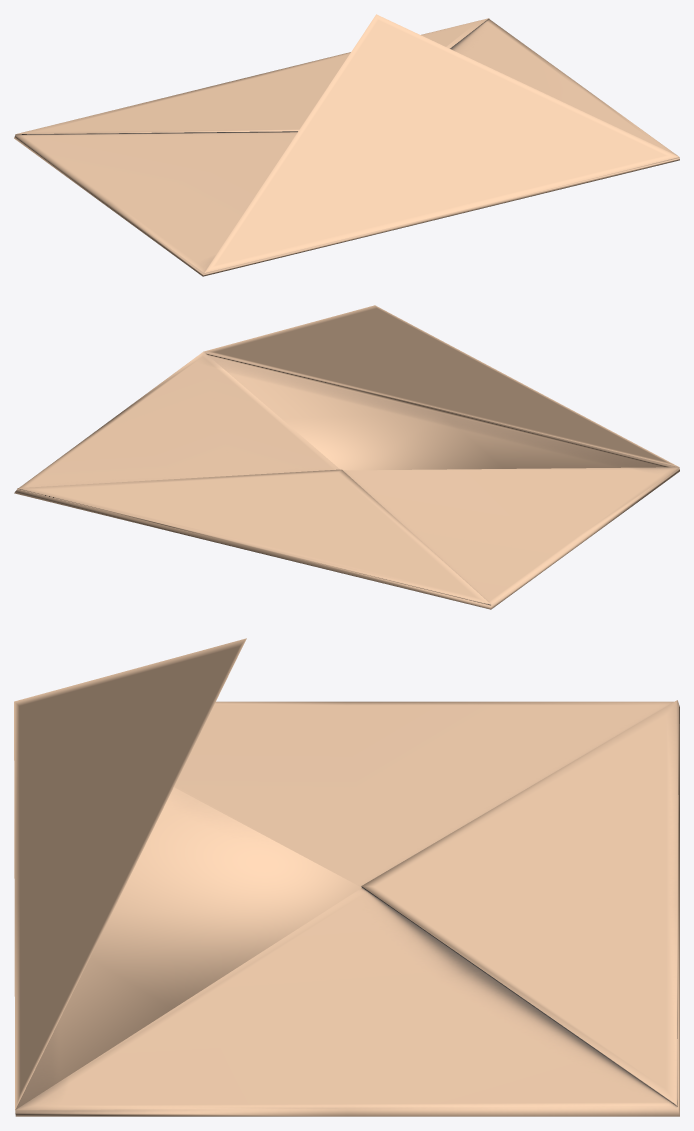
File: Envelope.fbx
3 views of the same model, one above another, from view 1: azimuth 30°, elevation 25°; view 2: azimuth 150°, elevation 25°; view 3: azimuth 270°, elevation 25° (orthographic). The views are drawn at different scales.
Bounding box in the file's own units: 24 × 7.5 × 16.5.
Materials: 1 (1 with a texture image).
